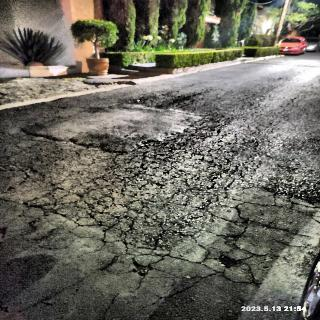alligator-crack: (20, 121, 320, 278)
